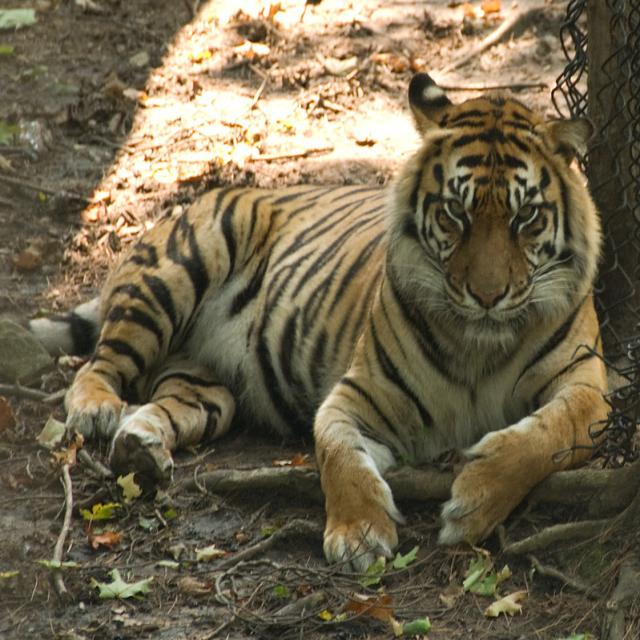Tiger: (58, 67, 606, 583)
